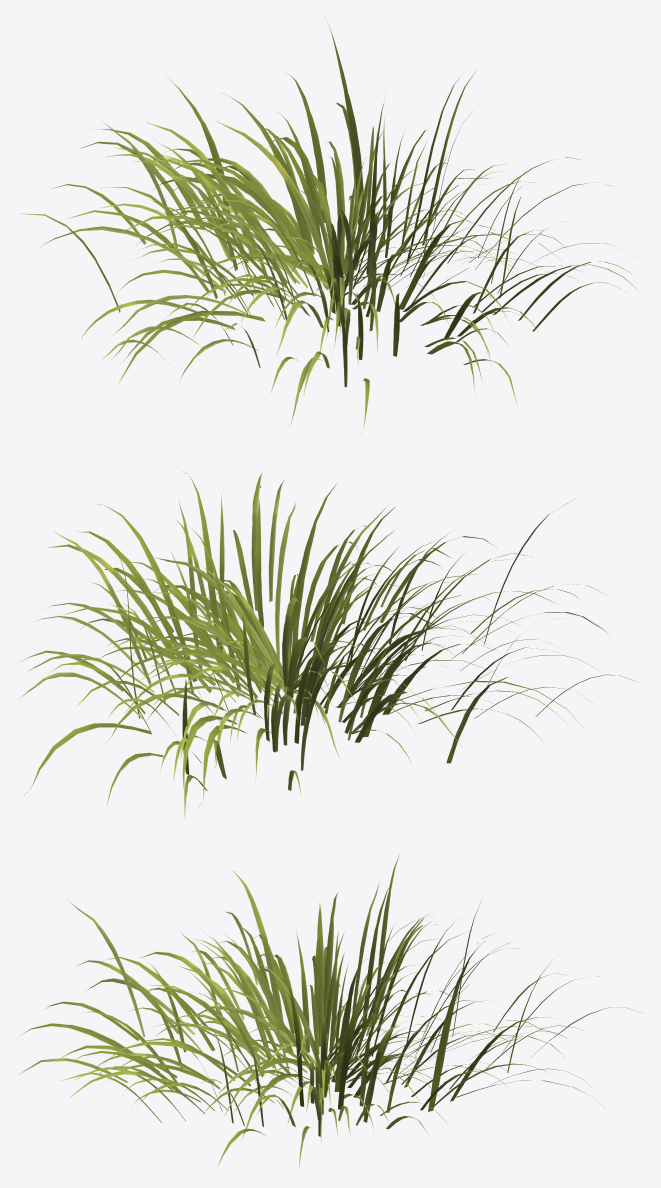
The model's file is grass_opt.glb.
The picture shows the model from 3 angles, top to bottom: view 1: azimuth 30°, elevation 25°; view 2: azimuth 150°, elevation 25°; view 3: azimuth 270°, elevation 25°; orthographic projection. The views are drawn at different scales.
Visible parts, largest first — view 1: grass_Shape; view 2: grass_Shape; view 3: grass_Shape.
Boxes of the visible parts, x1,y1,x2,y2 form: grass_Shape: (20,21,638,432); grass_Shape: (18,471,634,818); grass_Shape: (19,854,640,1170).
Size of the model in its own units: 3.47 by 1.22 by 3.91.
Materials: 1 (1 with a texture image).
